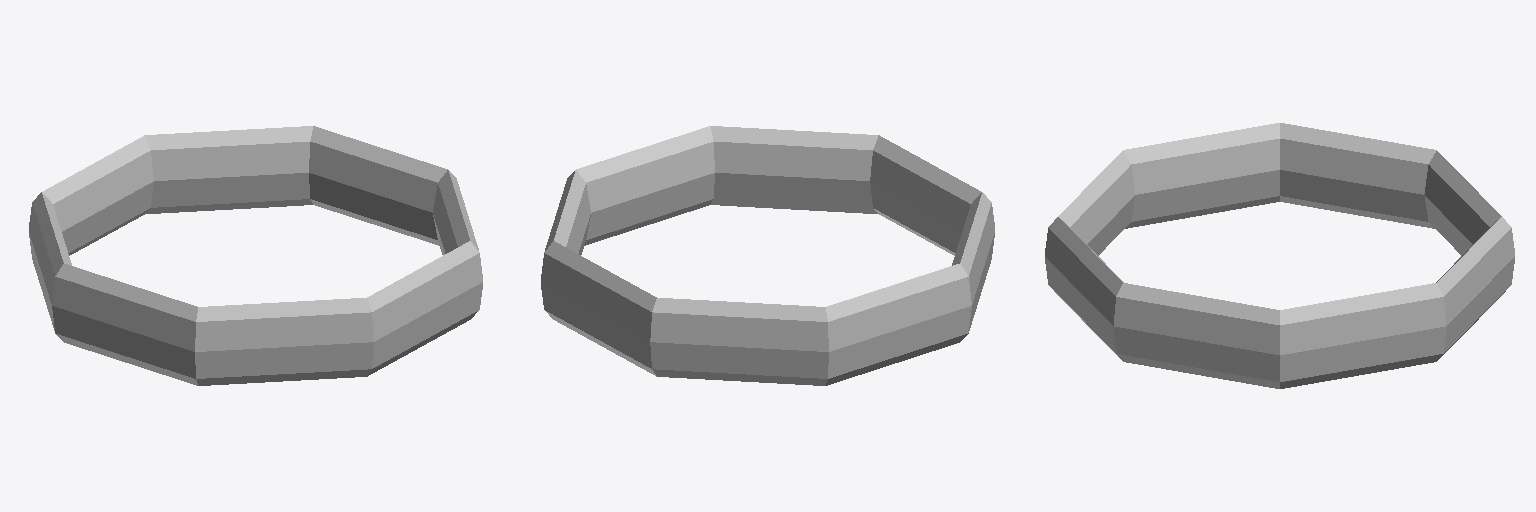
The model's file is octahedron_smoothed_50.obj.
The picture shows the model from 3 angles: view 1: azimuth 30°, elevation 25°; view 2: azimuth 150°, elevation 25°; view 3: azimuth 270°, elevation 25°; orthographic projection.
Size of the model in its own units: 2.19 by 0.4061 by 2.19.